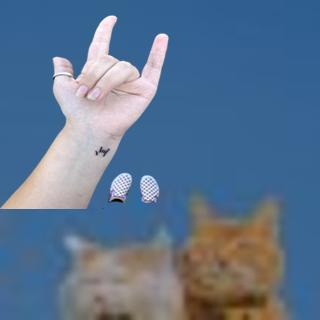ILY: (42, 10, 173, 140)
